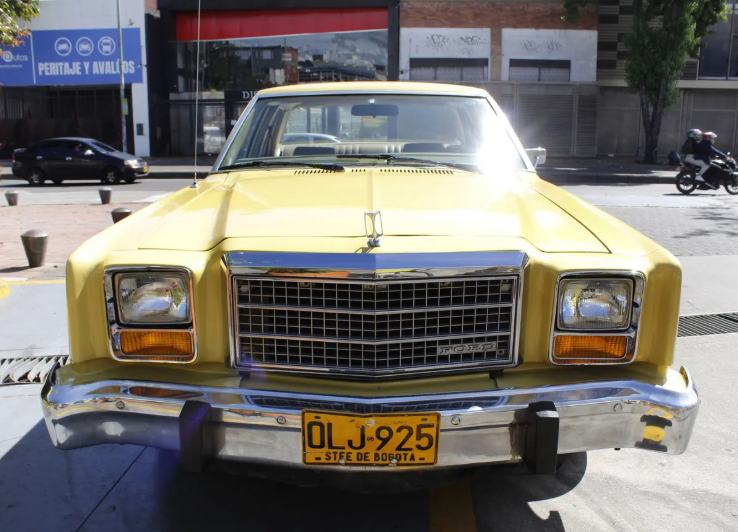placa: (299, 409, 442, 470)
